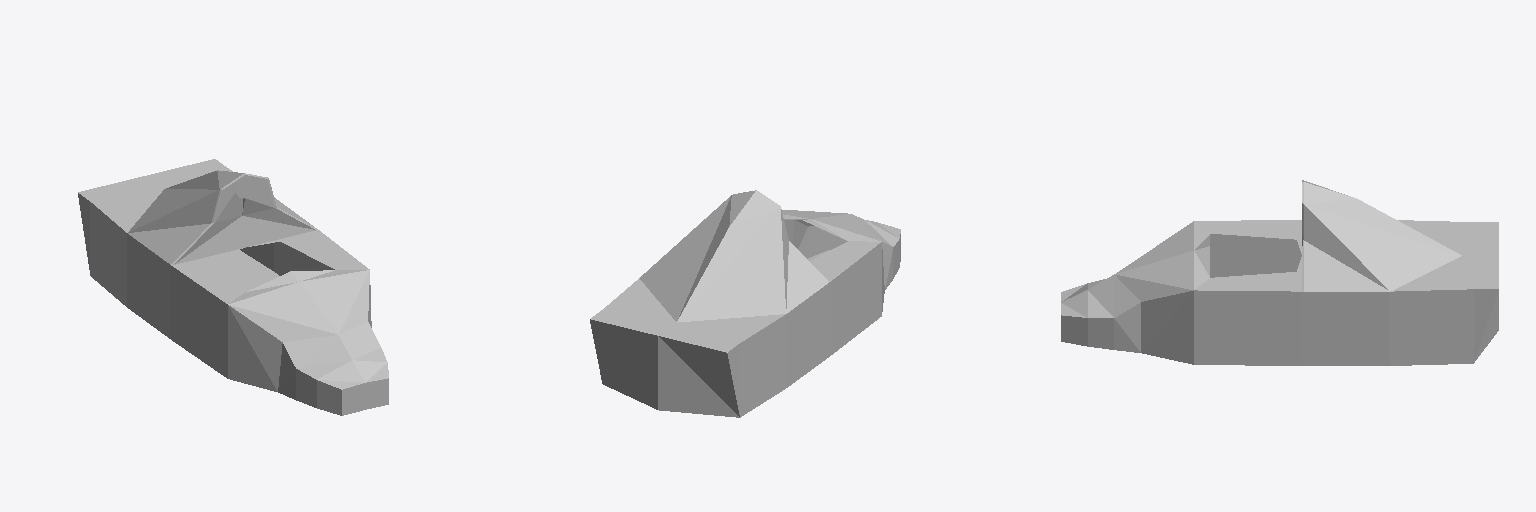
Rendered from flatspot_car_2.obj.
The picture shows the model from 3 angles: view 1: azimuth 30°, elevation 25°; view 2: azimuth 150°, elevation 25°; view 3: azimuth 270°, elevation 25°; orthographic projection.
Visible parts, largest first — view 1: Spec_Chassis; view 2: Spec_Chassis; view 3: Spec_Chassis.
Boxes of the visible parts, x1,y1,x2,y2 form: Spec_Chassis: [78, 159, 388, 415]; Spec_Chassis: [590, 190, 900, 417]; Spec_Chassis: [1061, 180, 1498, 365].
Bounding box in the file's own units: 0.62 × 0.5978 × 1.6.